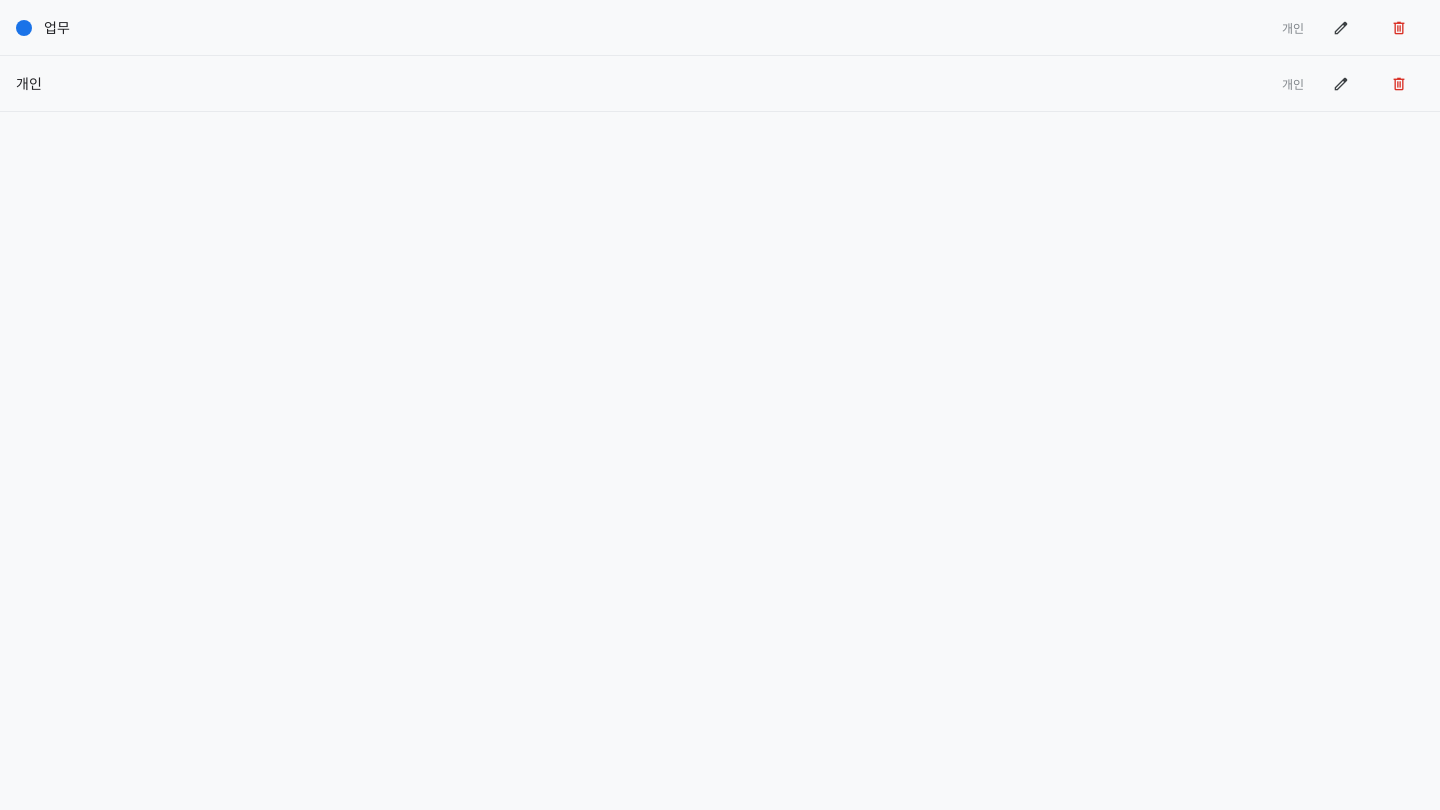
Test: CategoryList › 삭제 Modal에서 취소 버튼 클릭 시 Modal이 닫힌다
This screenshot has width=1440, height=810.
Click the 3rd button: [1399, 28] box x1=1374 y1=12 x2=1424 y2=42
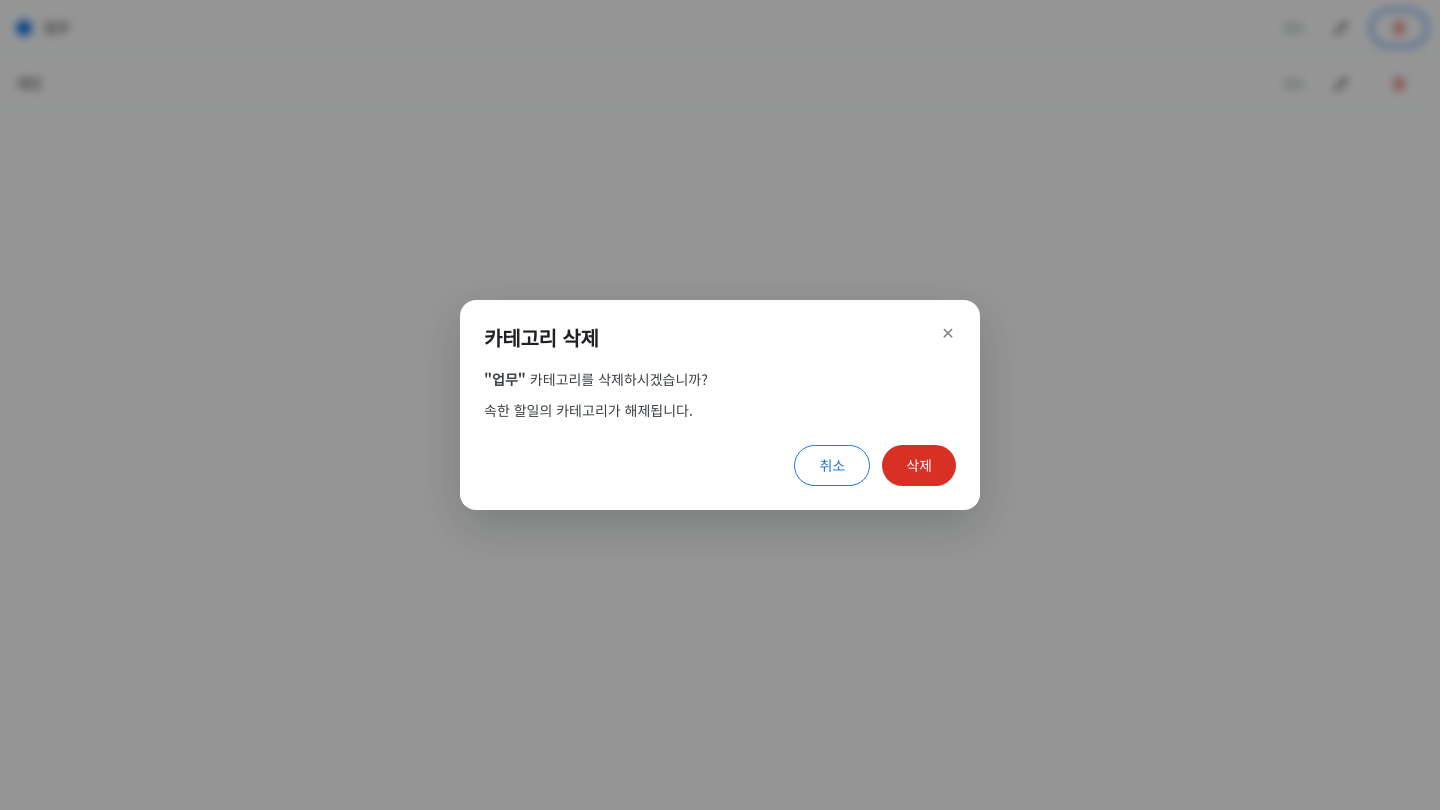
Click the button "취소": [832, 465] box x1=794 y1=445 x2=870 y2=486
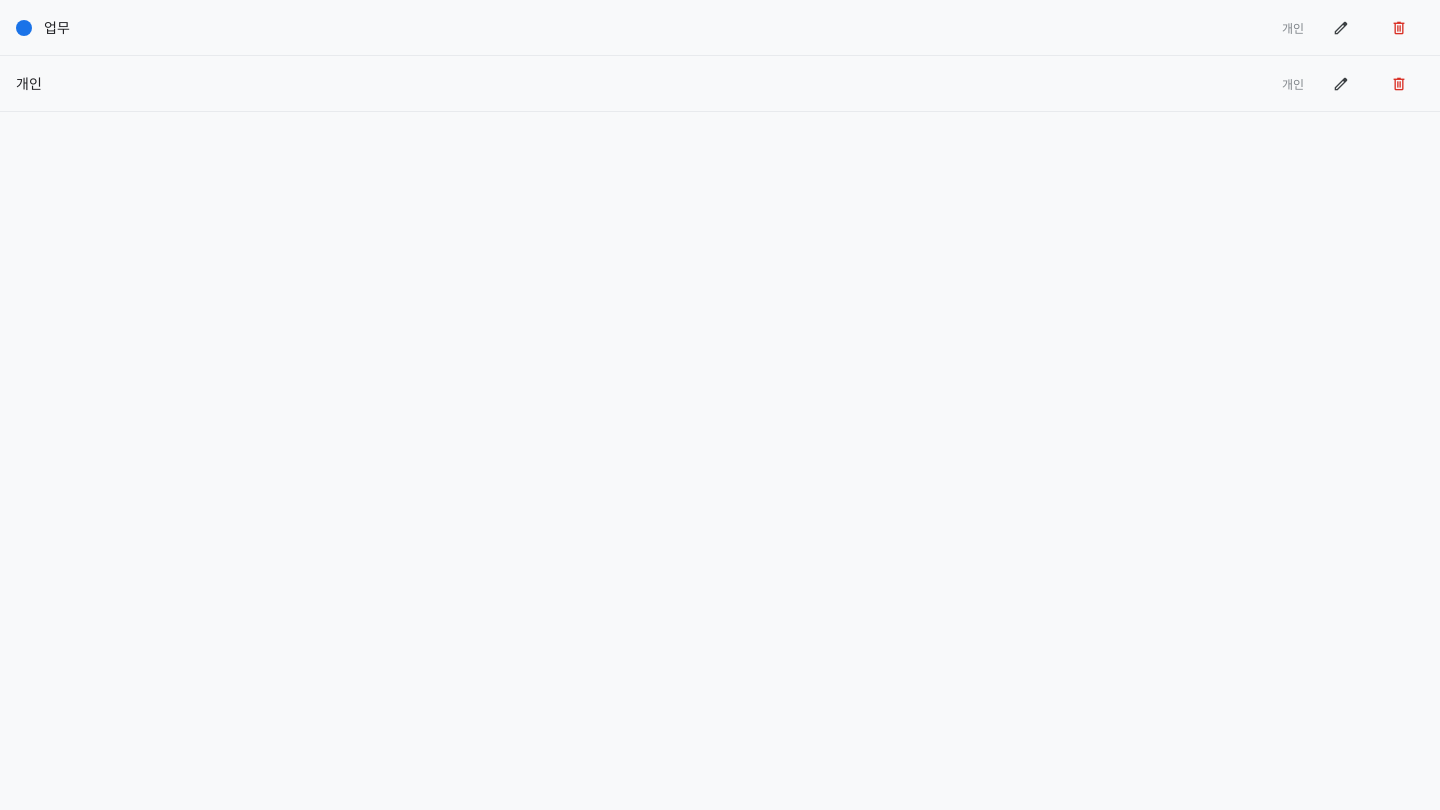
Check: the text "속한 할일의 카테고리가 해제됩니다." is gone
